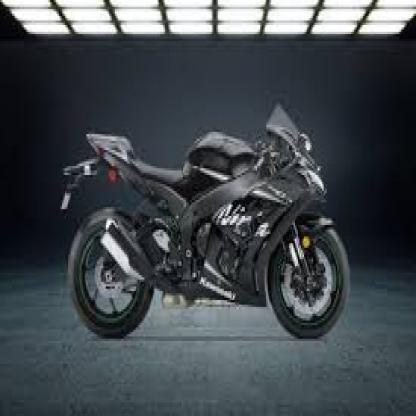Motorcycle: (58, 99, 353, 345)
